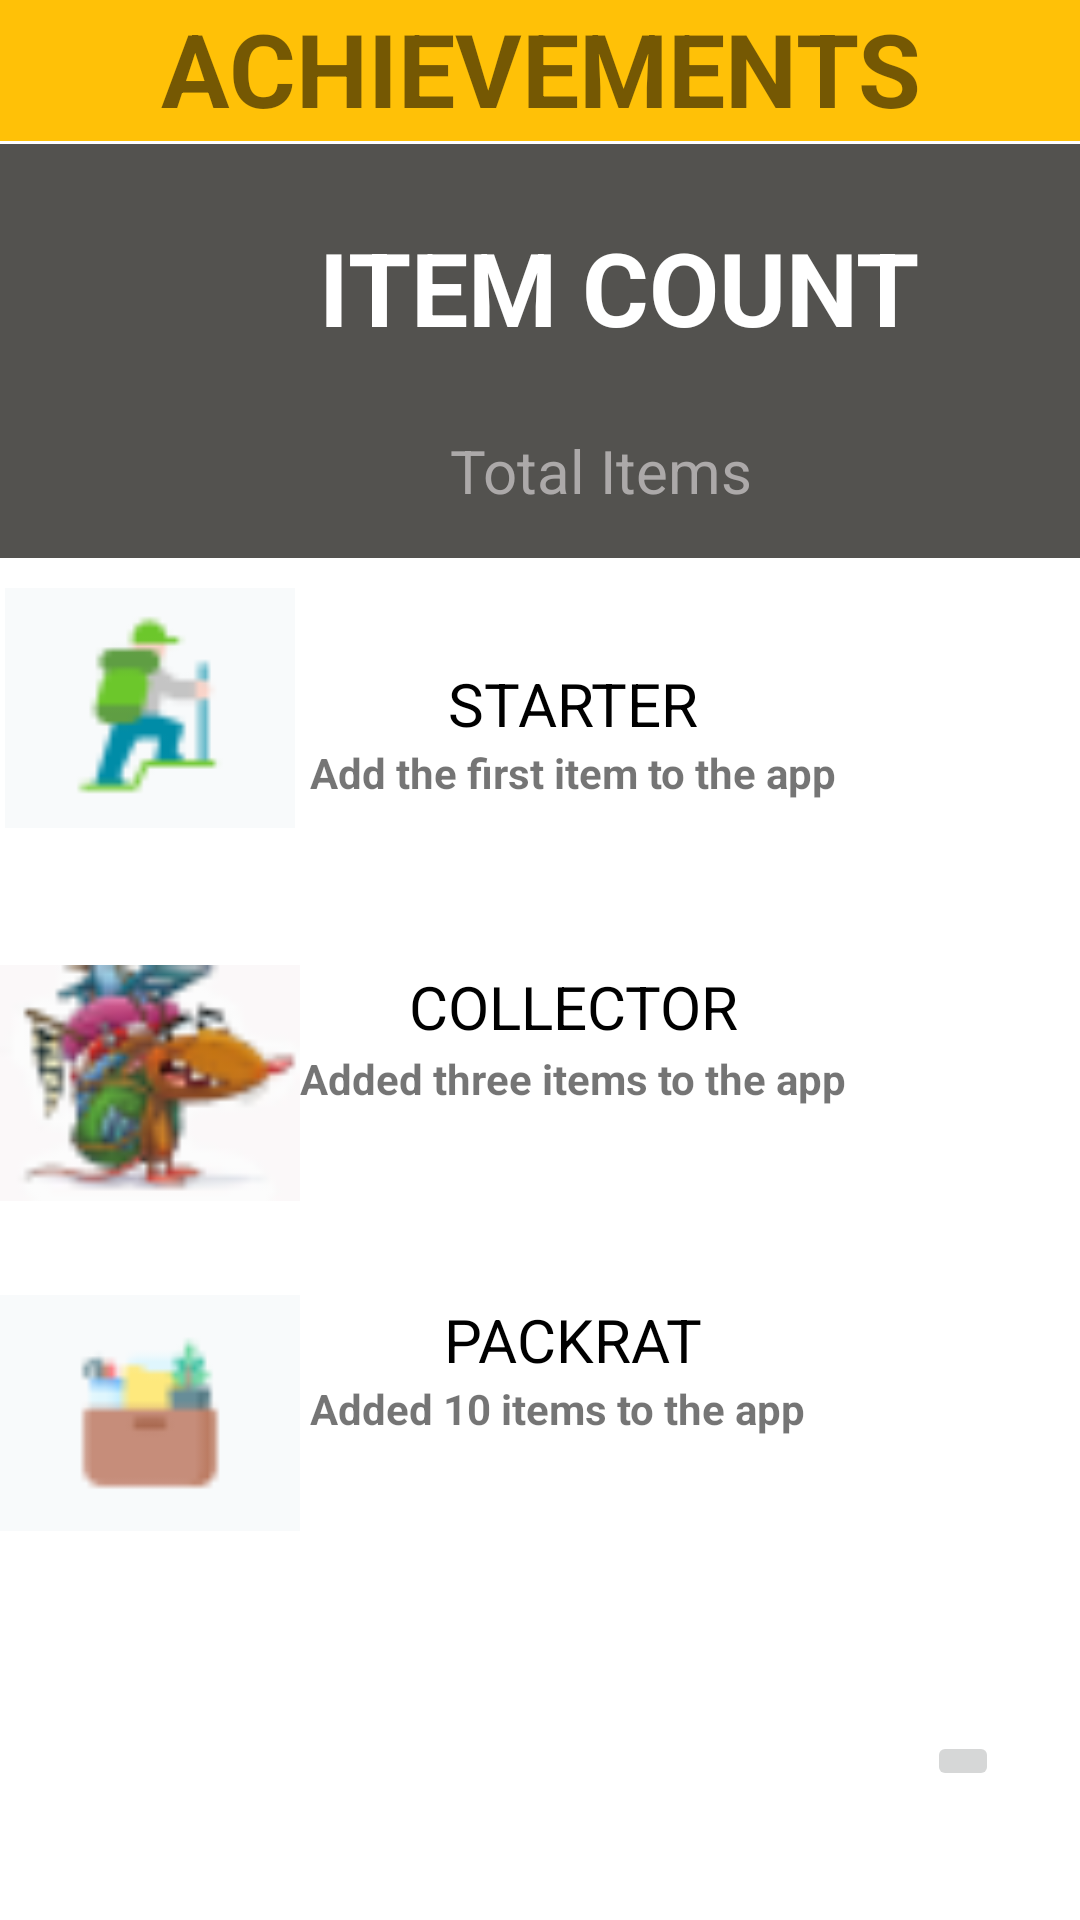

Icon click points for this 1080 x 1920 phone screenshot, format point (x, y):
box items: point (150, 1414)
start hike: point (147, 705)
